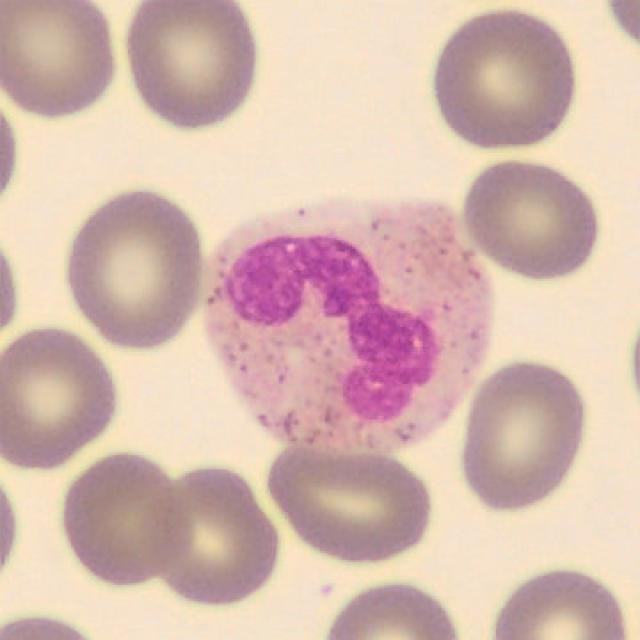Neutrofilo segmentado: (201, 196, 494, 462)
